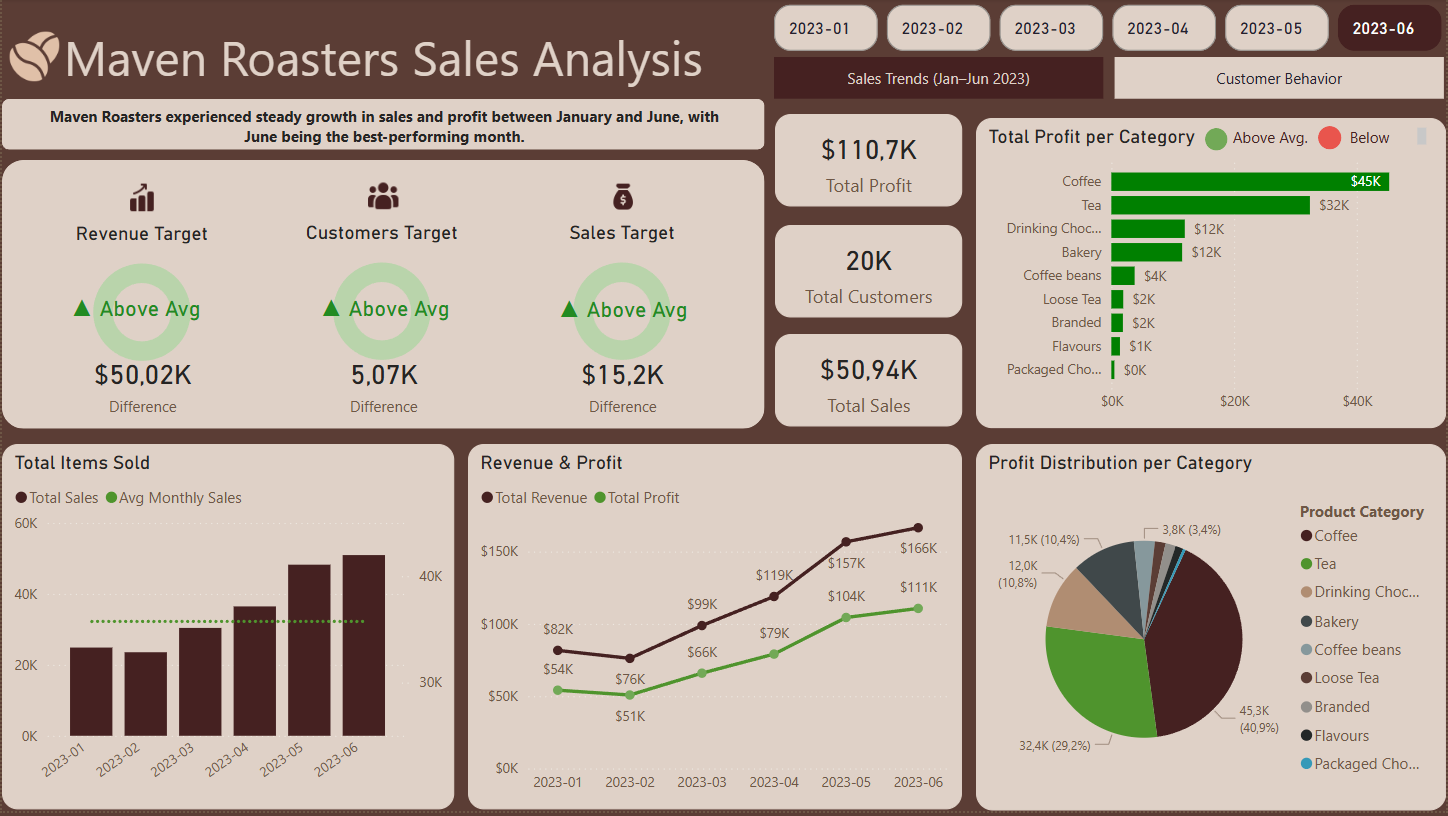

What the dashboard file says about the page in this screenshot:
{"tool":"powerbi","page":{"name":" Sales Trends (Jan–Jun 2023)","canvas":[1280,720],"ordinal":0},"visuals":[{"type":"advancedSlicerVisual","fields":{"Values":["DateTable.Month"]},"box":[684.8,0,595.5,51.4],"z":0},{"type":"shape","box":[0,88.7,676.1,44.8],"z":0,"group":"g4"},{"type":"shape","box":[1066.3,113.7,20,20],"z":0,"group":"g2"},{"type":"shape","box":[0,142.4,676.1,238.2],"z":0,"group":"g3"},{"type":"shape","box":[1166.6,112.5,20.8,20.8],"z":1000,"group":"g2"},{"type":"lineStackedColumnComboChart","title":"Total Items Sold","fields":{"Category":["DateTable.Month"],"Y":["Sum(Coffee Shop Sales_pivot.transaction_qty)"],"Y2":["Coffee Shop Sales_pivot.Avg Monthly Sales"]},"box":[0,395,401.1,324.1],"z":1000},{"type":"textbox","box":[0,16.8,676.3,70],"z":2000},{"type":"textbox","box":[1085.9,108.8,91.7,30.6],"z":2000,"group":"g2"},{"type":"textbox","box":[1189.4,109,78.3,30.6],"z":3000,"group":"g2"},{"type":"lineChart","title":"Revenue & Profit","fields":{"Y":["Coffee Shop Sales_pivot.Total Revenue","Coffee Shop Sales_cost.Total Profit"],"Category":["DateTable.Month"]},"box":[413.3,395,437.8,324.1],"z":3000},{"type":"pieChart","title":"Profit Distribution per Category","fields":{"Category":["Coffee Shop Sales_cost.Product Category"],"Y":["Coffee Shop Sales_cost.Total Profit"]},"box":[863.3,395,417,325.3],"z":4000},{"type":"barChart","title":"Total Profit per Category","fields":{"Category":["Coffee Shop Sales_cost.Product Category"],"Y":["Coffee Shop Sales_cost.Total Profit"]},"box":[863.3,105.2,417,275.1],"z":5000},{"type":"pageNavigator","box":[684.8,51.4,595.5,37.9],"z":6000},{"type":"donutChart","title":"Revenue Target","fields":{"Y":["Coffee Shop Sales_pivot.Total Revenue","Coffee Shop Sales_cost.Difference Revenue Pie"]},"box":[17.9,197,212.7,139],"z":6500,"group":"g1"},{"type":"card","fields":{"Values":["Coffee Shop Sales_cost.Total Profit"]},"box":[685.8,101.7,166.3,81.9],"z":7000},{"type":"group","id":"g1","title":"Group 1","box":[17.9,196.4,638.4,176.8],"z":8000,"group":"g3"},{"type":"card","fields":{"Values":["Coffee Shop Sales_pivot.Total Customers"]},"box":[685.8,200.8,166.3,81.9],"z":8000},{"type":"card","fields":{"Values":["Coffee Shop Sales_pivot.Revenue Status"]},"box":[54.9,250,126.2,49.5],"z":9000,"group":"g1"},{"type":"card","fields":{"Values":["Coffee Shop Sales_pivot.Total Sales"]},"box":[685.8,297.4,166.3,81.9],"z":9000},{"type":"group","id":"g2","title":"Group 2","box":[1066.3,108.8,201.4,30.8],"z":10000},{"type":"card","fields":{"Values":["Coffee Shop Sales_pivot.Difference Revenue"]},"box":[66.6,307.6,116.7,66],"z":10250,"group":"g1"},{"type":"donutChart","title":"Customers Target","fields":{"Y":["Coffee Shop Sales_pivot.Total Customers","Coffee Shop Sales_pivot.Difference Customers Pie"]},"box":[230.6,196.8,212.7,139],"z":10500,"group":"g1"},{"type":"image","box":[1.8,24.2,53.7,53.7],"z":11000},{"type":"card","fields":{"Values":["Coffee Shop Sales_pivot.Difference Customers"]},"box":[280.8,307.6,116.7,66],"z":11000,"group":"g1"},{"type":"group","id":"g3","title":"Group 3","box":[0,142.4,676.1,238.2],"z":12000},{"type":"donutChart","title":"Sales Target","fields":{"Y":["Coffee Shop Sales_pivot.Total Sales","Coffee Shop Sales_pivot.Difference Sales Pie"]},"box":[443.8,196.4,212.8,139],"z":12000,"group":"g1"},{"type":"group","id":"g4","title":"Group 4","box":[0,88.7,676.1,51],"z":13000},{"type":"card","fields":{"Values":["Coffee Shop Sales_pivot.Difference Sales"]},"box":[492.4,307.6,116.7,66],"z":13000,"group":"g1"},{"type":"image","box":[317,155.7,43.9,36.9],"z":14000,"group":"g3"},{"type":"card","fields":{"Values":["Coffee Shop Sales_pivot.Sales Status"]},"box":[487,250.7,126.4,49],"z":14000,"group":"g1"},{"type":"image","box":[530.1,158.8,40.3,33],"z":15000,"group":"g3"},{"type":"card","fields":{"Values":["Coffee Shop Sales_pivot.Customer Status"]},"box":[275.7,249.3,126.4,49],"z":15000,"group":"g1"},{"type":"image","box":[101.2,156.5,46.6,38.4],"z":16000,"group":"g3"},{"type":"textbox","box":[34.9,90.5,609,49.3],"z":16002,"group":"g4"}]}

Visuals, with their boxes in screenshot pixels (x1, y1, x2, y2), scaled from the page's 1280x720 canvas onto the 1448x816 screenshot:
advancedSlicerVisual - DateTable.Month: x1=775 y1=0 x2=1447 y2=58
shape: x1=0 y1=101 x2=765 y2=151
shape: x1=1206 y1=129 x2=1229 y2=152
shape: x1=0 y1=161 x2=765 y2=431
shape: x1=1320 y1=128 x2=1343 y2=151
"Total Items Sold" lineStackedColumnComboChart: x1=0 y1=448 x2=454 y2=815
textbox: x1=0 y1=19 x2=765 y2=98
textbox: x1=1228 y1=123 x2=1332 y2=158
textbox: x1=1346 y1=124 x2=1434 y2=158
"Revenue & Profit" lineChart: x1=468 y1=448 x2=963 y2=815
"Profit Distribution per Category" pieChart: x1=977 y1=448 x2=1447 y2=815
"Total Profit per Category" barChart: x1=977 y1=119 x2=1447 y2=431
pageNavigator: x1=775 y1=58 x2=1447 y2=101
"Revenue Target" donutChart: x1=20 y1=223 x2=261 y2=381
card - Coffee Shop Sales_cost.Total Profit: x1=776 y1=115 x2=964 y2=208
"Group 1" group: x1=20 y1=223 x2=742 y2=423
card - Coffee Shop Sales_pivot.Total Customers: x1=776 y1=228 x2=964 y2=320
card - Coffee Shop Sales_pivot.Revenue Status: x1=62 y1=283 x2=205 y2=339
card - Coffee Shop Sales_pivot.Total Sales: x1=776 y1=337 x2=964 y2=430
"Group 2" group: x1=1206 y1=123 x2=1434 y2=158
card - Coffee Shop Sales_pivot.Difference Revenue: x1=75 y1=349 x2=207 y2=423
"Customers Target" donutChart: x1=261 y1=223 x2=501 y2=381
image: x1=2 y1=27 x2=63 y2=88
card - Coffee Shop Sales_pivot.Difference Customers: x1=318 y1=349 x2=450 y2=423
"Group 3" group: x1=0 y1=161 x2=765 y2=431
"Sales Target" donutChart: x1=502 y1=223 x2=743 y2=380
"Group 4" group: x1=0 y1=101 x2=765 y2=158
card - Coffee Shop Sales_pivot.Difference Sales: x1=557 y1=349 x2=689 y2=423
image: x1=359 y1=176 x2=408 y2=218
card - Coffee Shop Sales_pivot.Sales Status: x1=551 y1=284 x2=694 y2=340
image: x1=600 y1=180 x2=645 y2=217
card - Coffee Shop Sales_pivot.Customer Status: x1=312 y1=283 x2=455 y2=338
image: x1=114 y1=177 x2=167 y2=221
textbox: x1=39 y1=103 x2=728 y2=158
